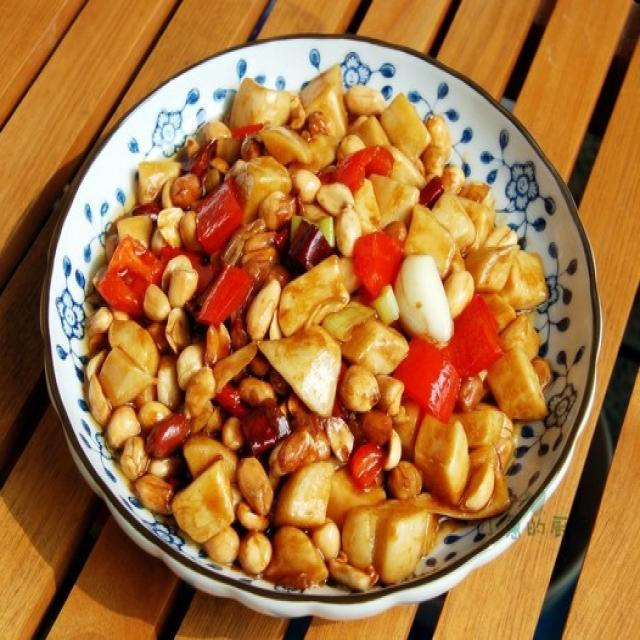鸡肉料理 含炸鸡: (45, 22, 601, 602)
